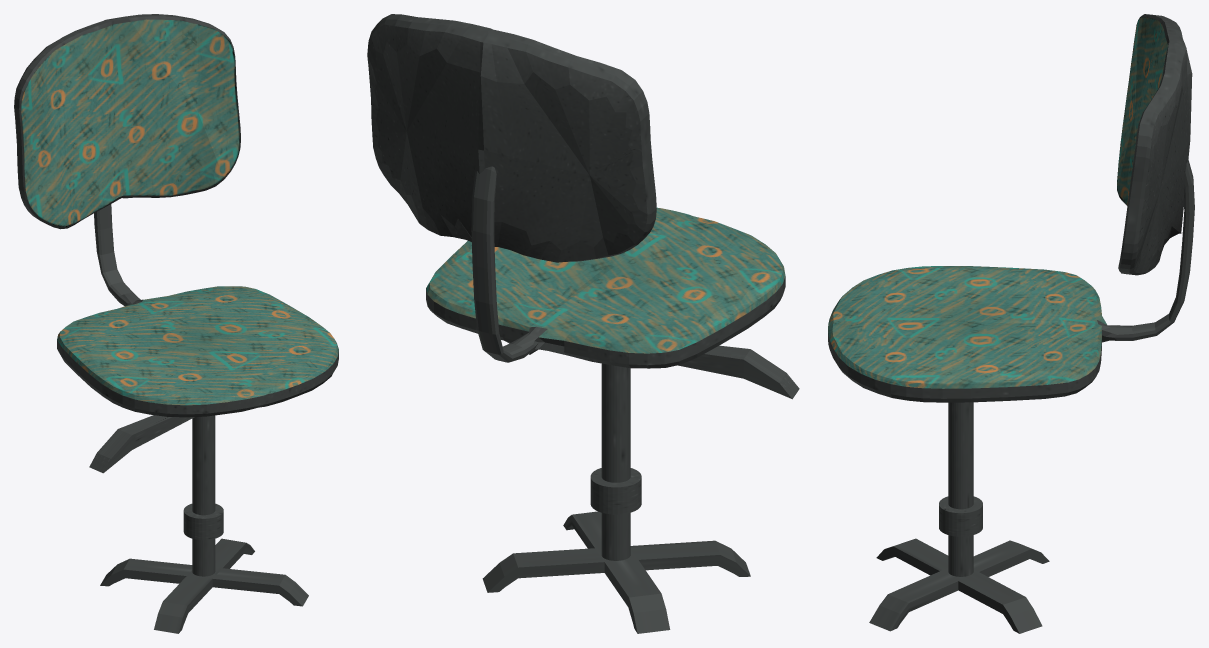
File: Chair.fbx
The picture shows the model from 3 angles, left to right: view 1: azimuth 30°, elevation 25°; view 2: azimuth 150°, elevation 25°; view 3: azimuth 270°, elevation 25°; orthographic projection. The views are drawn at different scales.
Visible parts, largest first — view 1: Chair; view 2: Chair; view 3: Chair.
Boxes of the visible parts, <box> form: Chair: <box>14,14,338,633</box>; Chair: <box>367,14,799,633</box>; Chair: <box>828,14,1194,633</box>.
Size of the model in its own units: 214 by 428 by 258.
Materials: 3 (3 with a texture image).
